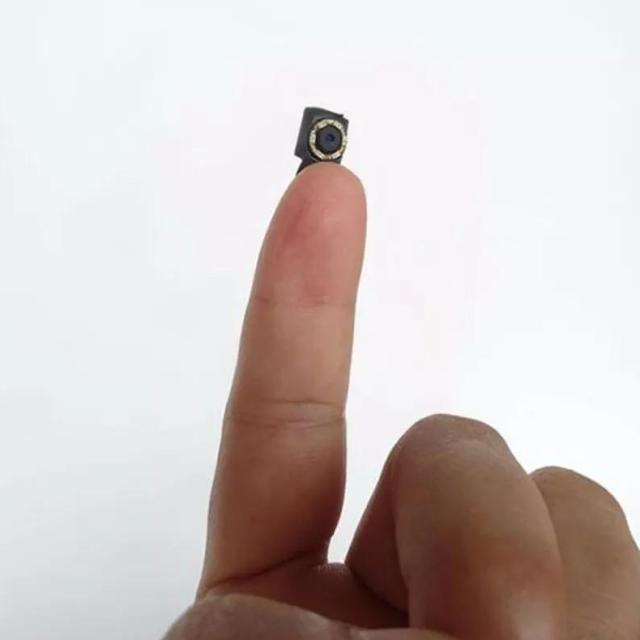hidden camera: (325, 132, 336, 142)
